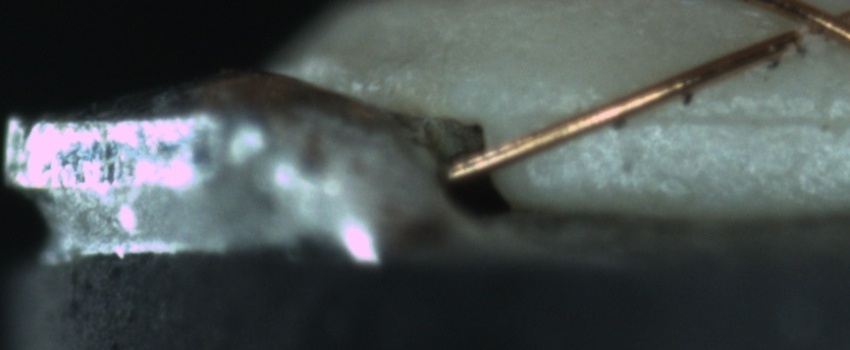CL: (763, 3, 848, 56)
DL: (553, 87, 850, 150)
